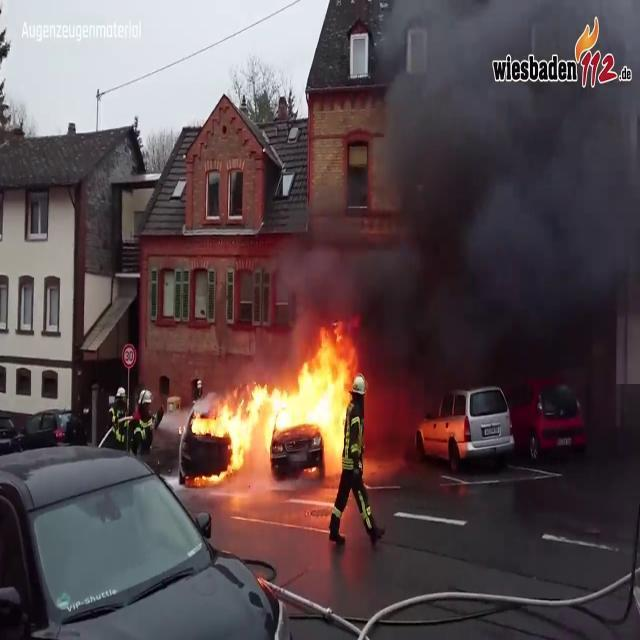Fire: (192, 322, 364, 470)
Smoke: (281, 0, 640, 359)
